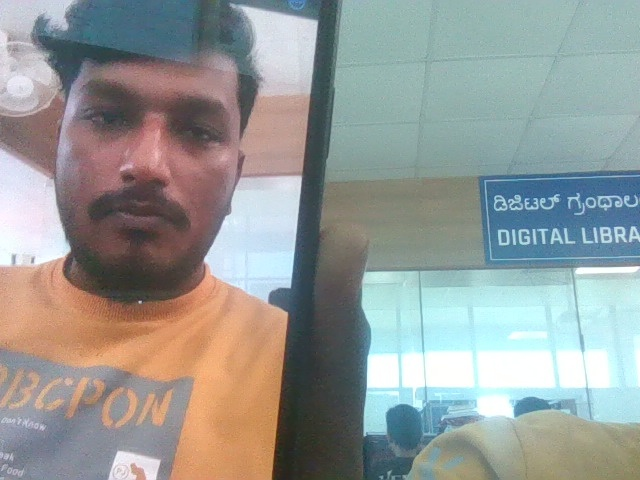fake: (22, 0, 269, 350)
